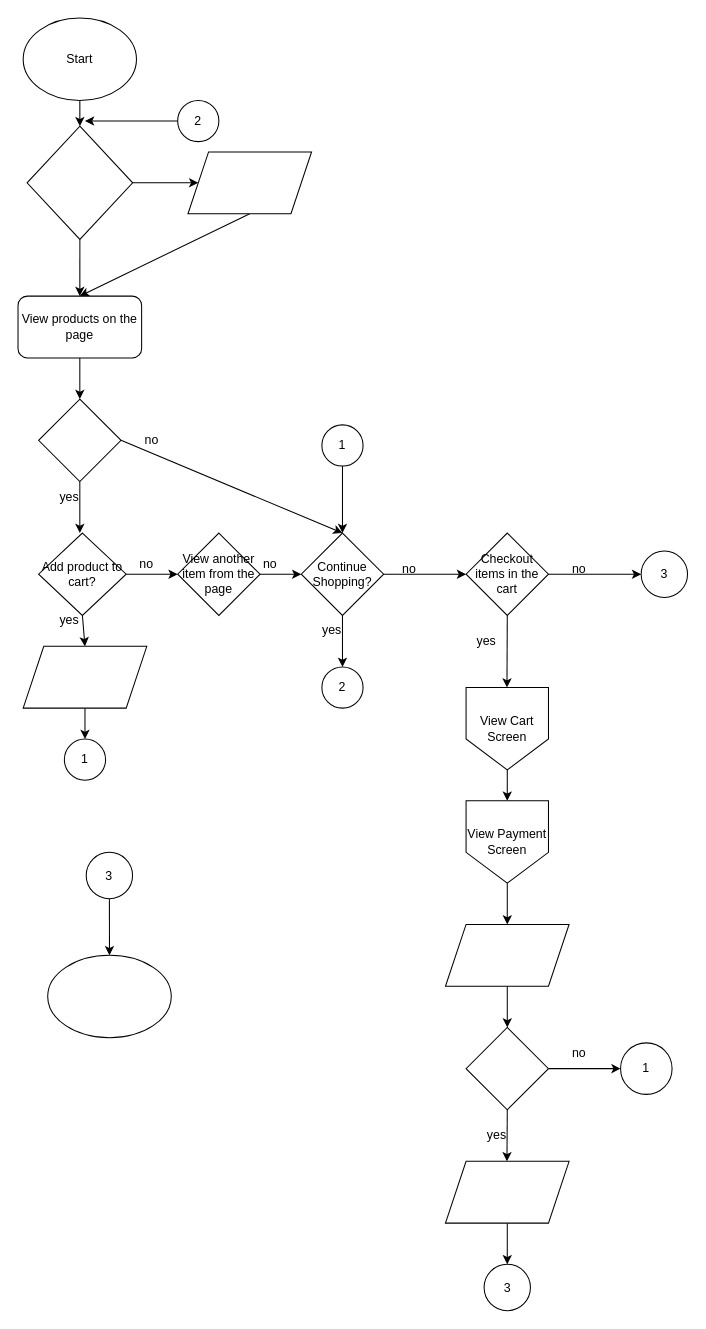
This 706x1329 diagram has some shape labels left out. The shapes that lost their labels are listed below. From the top down, each one's centre as x and y in pixels, then its label:
At (x=79, y=182): "Search for a product or explore the home page".
At (x=249, y=182): "Input product to search for".
At (x=79, y=440): "Click on product of interest".
At (x=84, y=676): "Product added to cart".
At (x=506, y=954): "input payment info".
At (x=109, y=996): "END".
At (x=506, y=1068): "Pay".
At (x=506, y=1191): "Payment confirmation".
